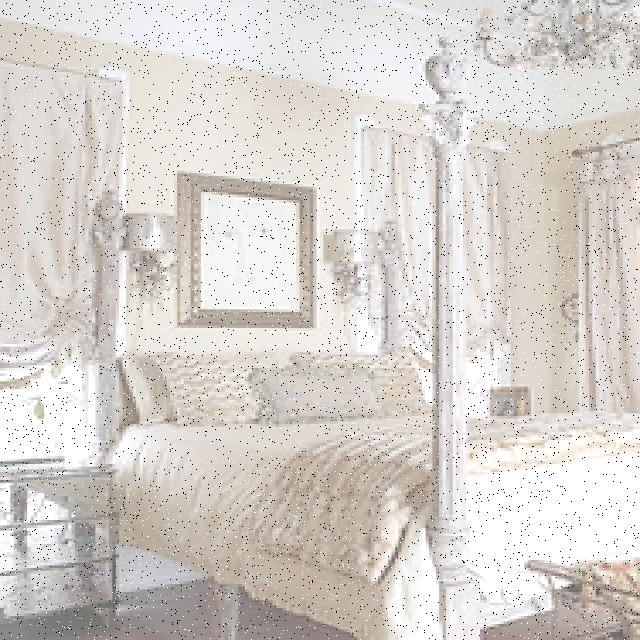bed: (117, 332, 640, 632)
